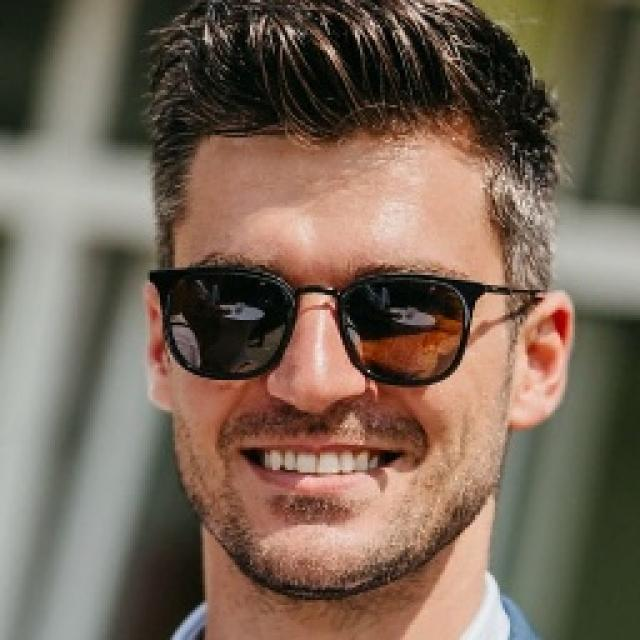glasses: (130, 247, 510, 391)
